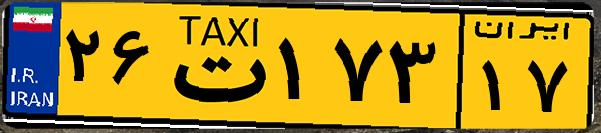1: (270, 28, 330, 110), (475, 38, 525, 113)
2: (57, 26, 110, 100)
3: (385, 28, 445, 110)
6: (110, 28, 158, 98)
7: (330, 28, 385, 110), (525, 38, 570, 115)
ت: (158, 12, 270, 120)
